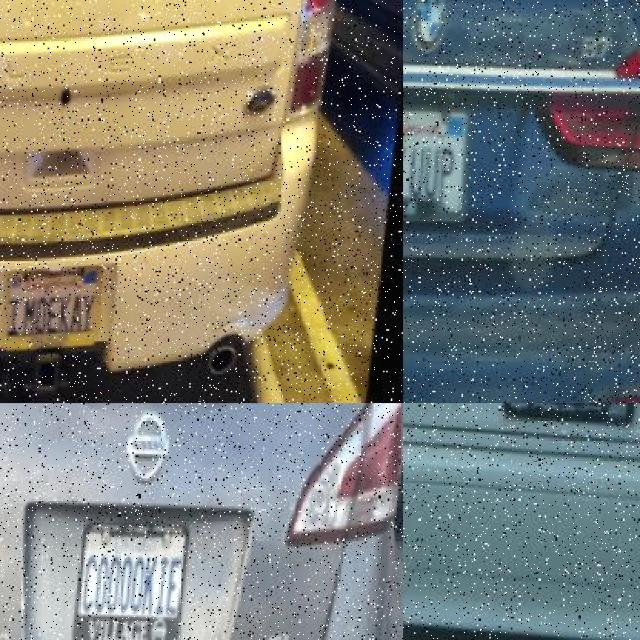licenseplate: (75, 522, 195, 640), (403, 94, 488, 228), (503, 403, 640, 469), (6, 266, 106, 351)
